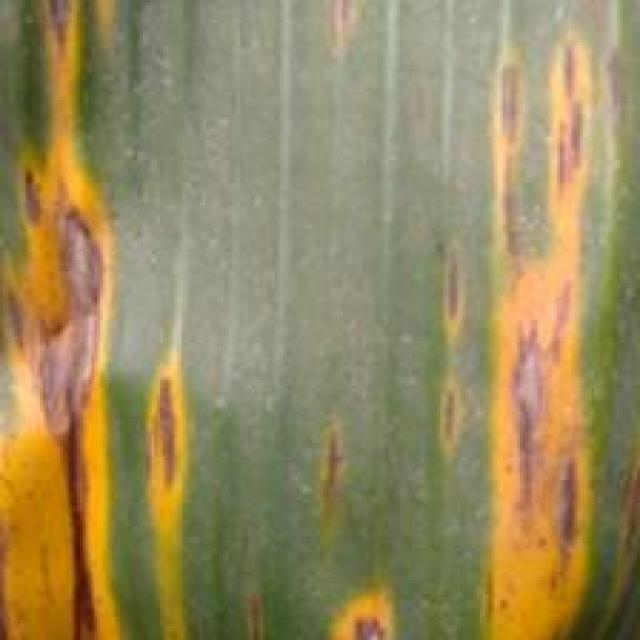Early_leaf_spot: (463, 0, 640, 640), (0, 0, 132, 637), (124, 338, 210, 640), (408, 229, 474, 463), (295, 382, 360, 542), (207, 553, 288, 637), (324, 565, 406, 640), (294, 0, 361, 66)
